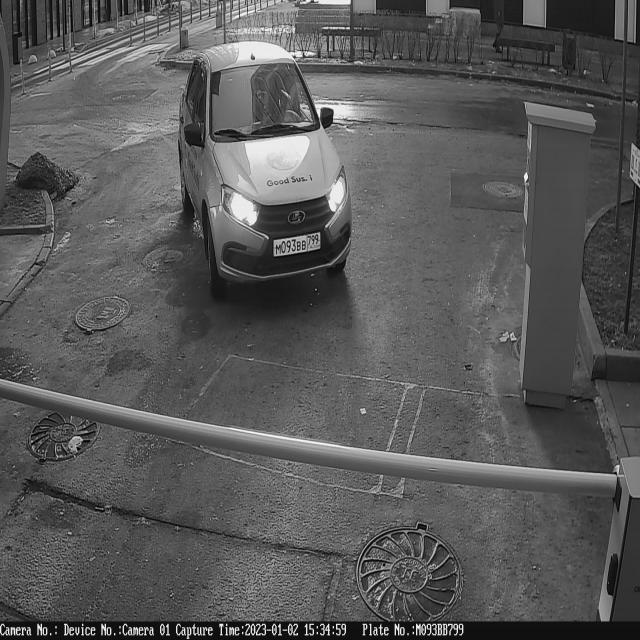car-plate-numbers: (273, 231, 325, 263)
